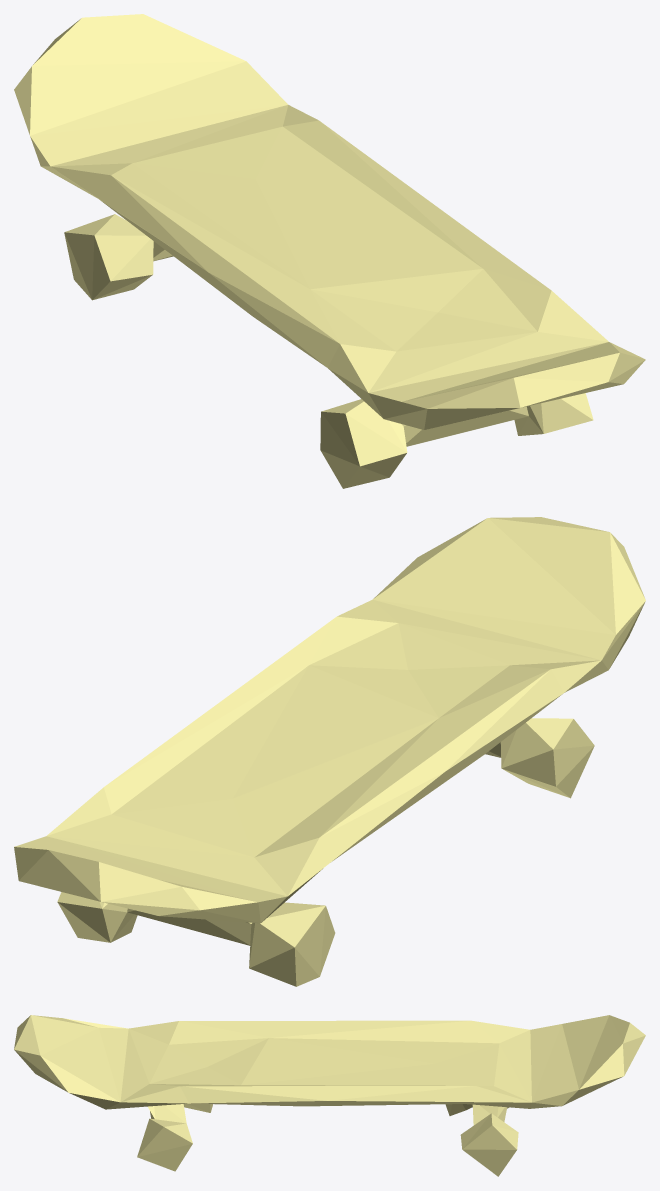
3 renders of one model, top to bottom at view 1: azimuth 30°, elevation 25°; view 2: azimuth 150°, elevation 25°; view 3: azimuth 270°, elevation 25°, orthographic. The views are drawn at different scales.
Parts seen in each view (by area): view 1: mesh; view 2: mesh; view 3: mesh.
Part boxes in pixels (bbox=[...]): mesh: bbox=[14, 14, 645, 488]; mesh: bbox=[14, 517, 645, 986]; mesh: bbox=[14, 1015, 645, 1176].
Bounding box in the file's own units: 0.2817 × 0.2023 × 1.
